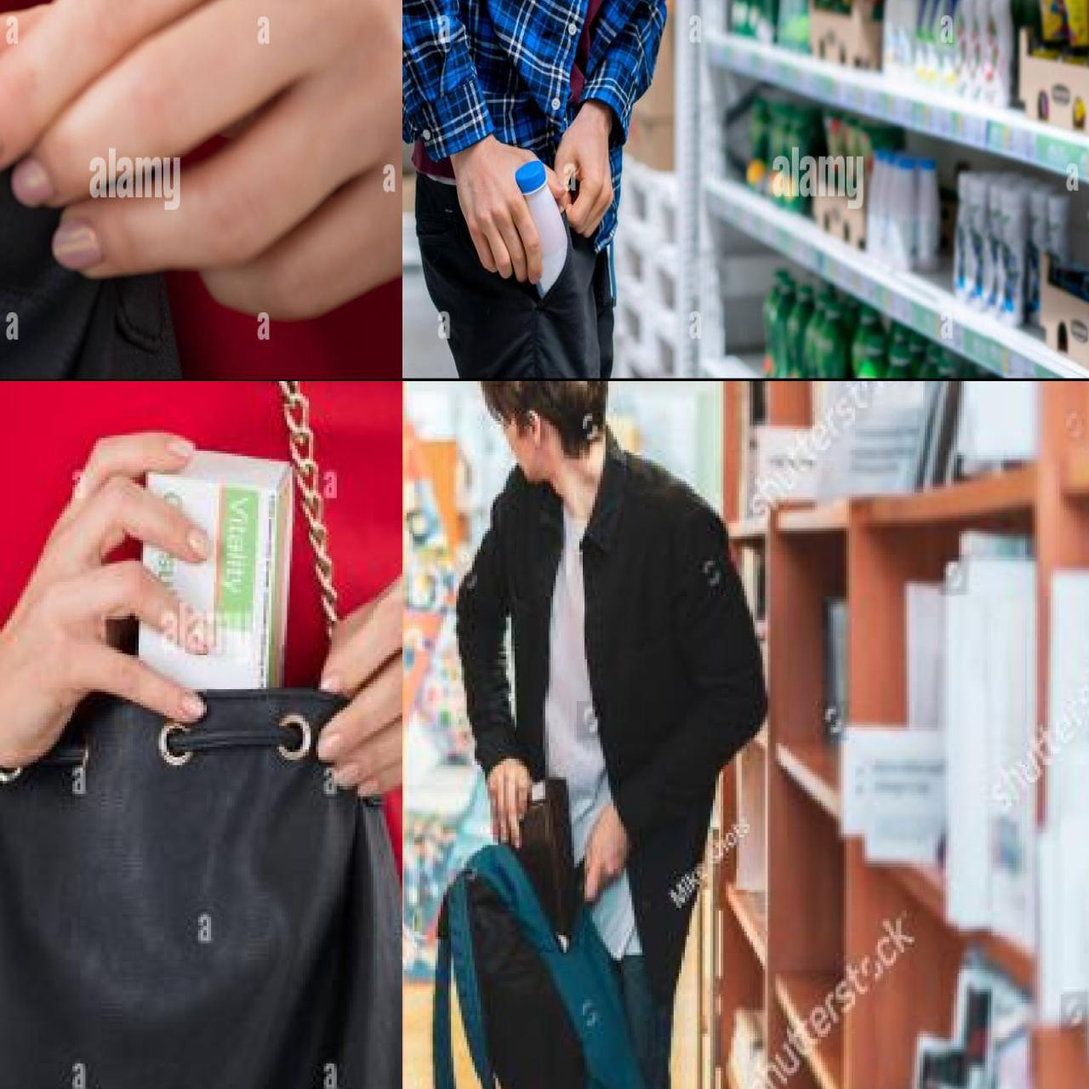shoplifting: (0, 384, 401, 1089), (421, 562, 803, 1089), (403, 9, 736, 381)
